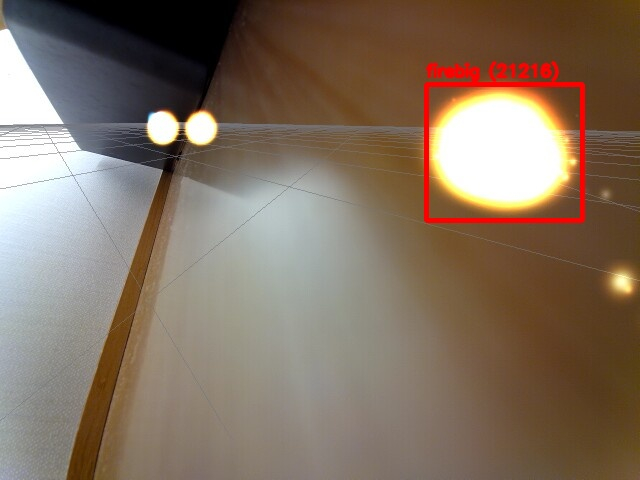firebig: (426, 84, 582, 220)
